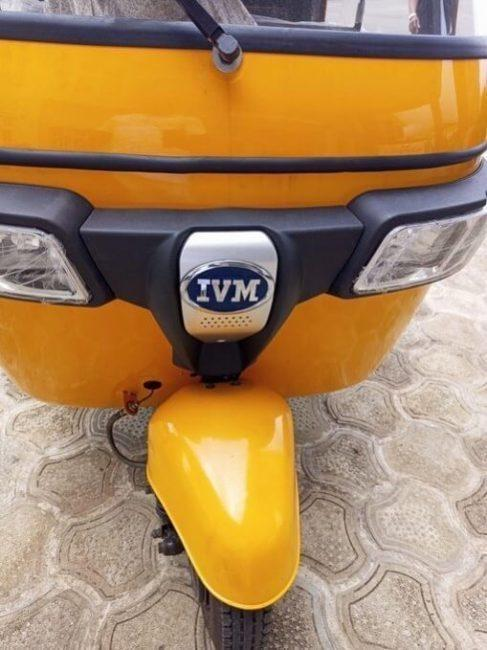keke: (131, 143, 487, 650)
